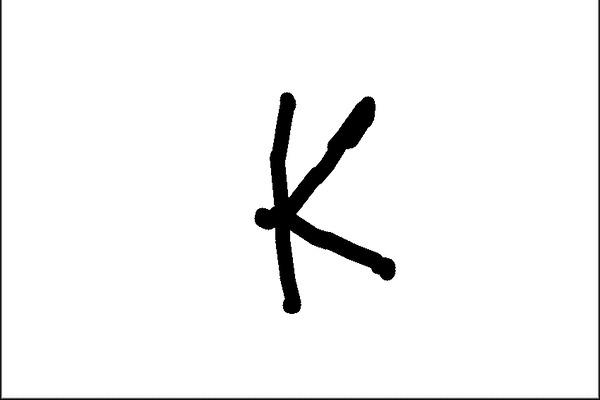K: (248, 82, 405, 318)
